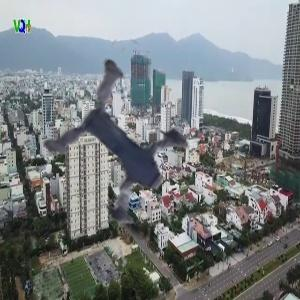drone: (27, 51, 222, 246)
